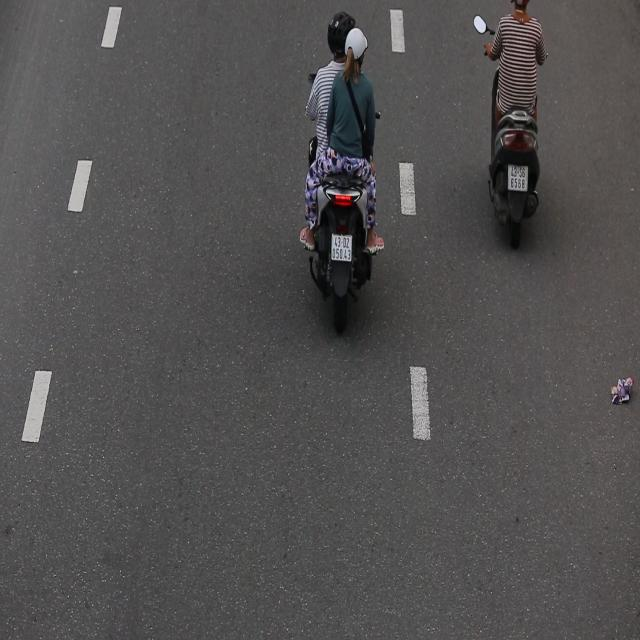motorbike: (298, 1, 391, 336)
